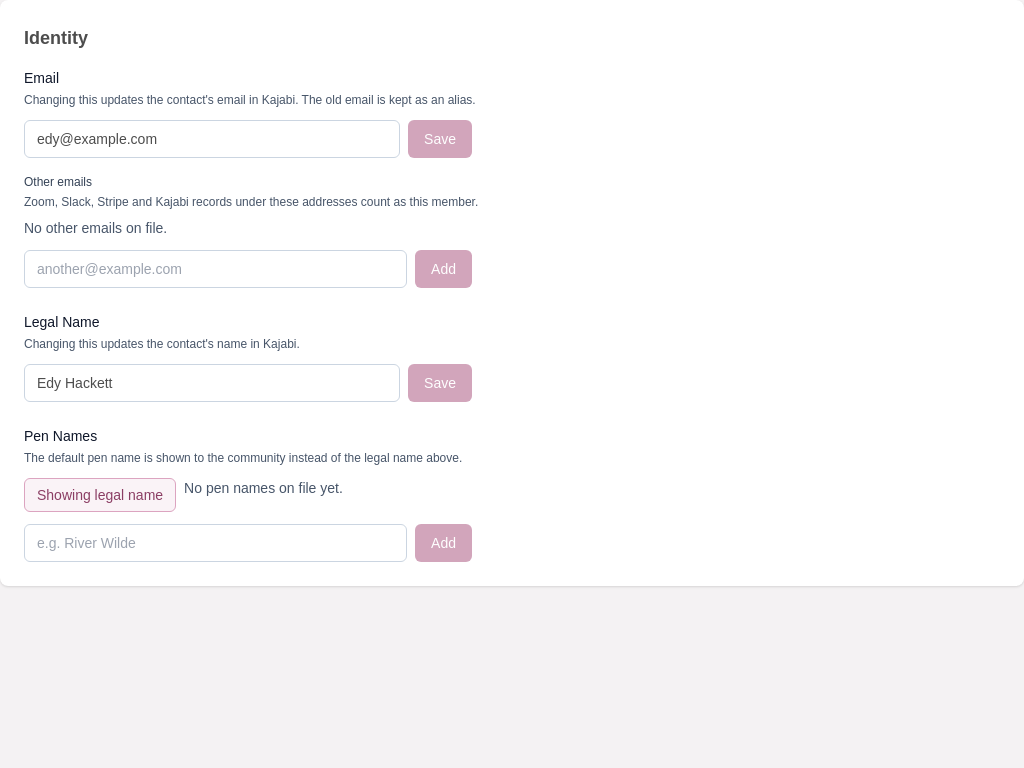
Test: MemberIdentityPanel › shows an error and does not refresh when the Kajabi push fails
The image size is (1024, 768).
Replace the text in the field showing "Edy Hackett" with "Erica Haraldsen". click: (212, 383)
box: x1=24 y1=364 x2=400 y2=402
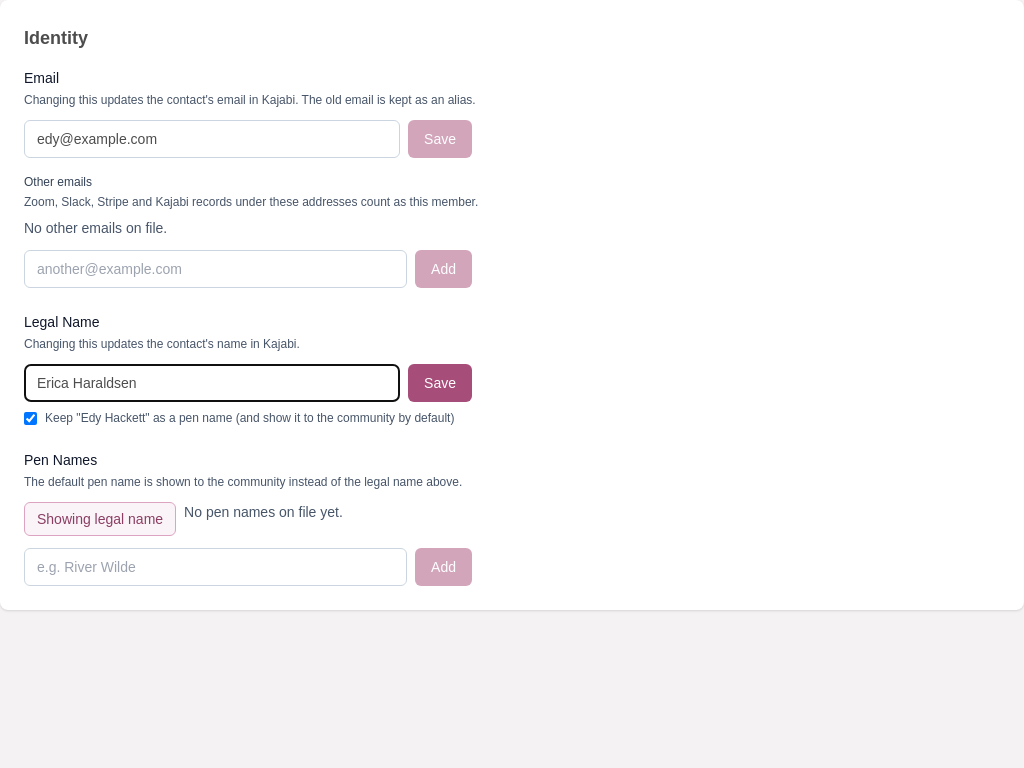
Click the 2nd button "Save". click: (440, 383)
box: x1=408 y1=364 x2=472 y2=402
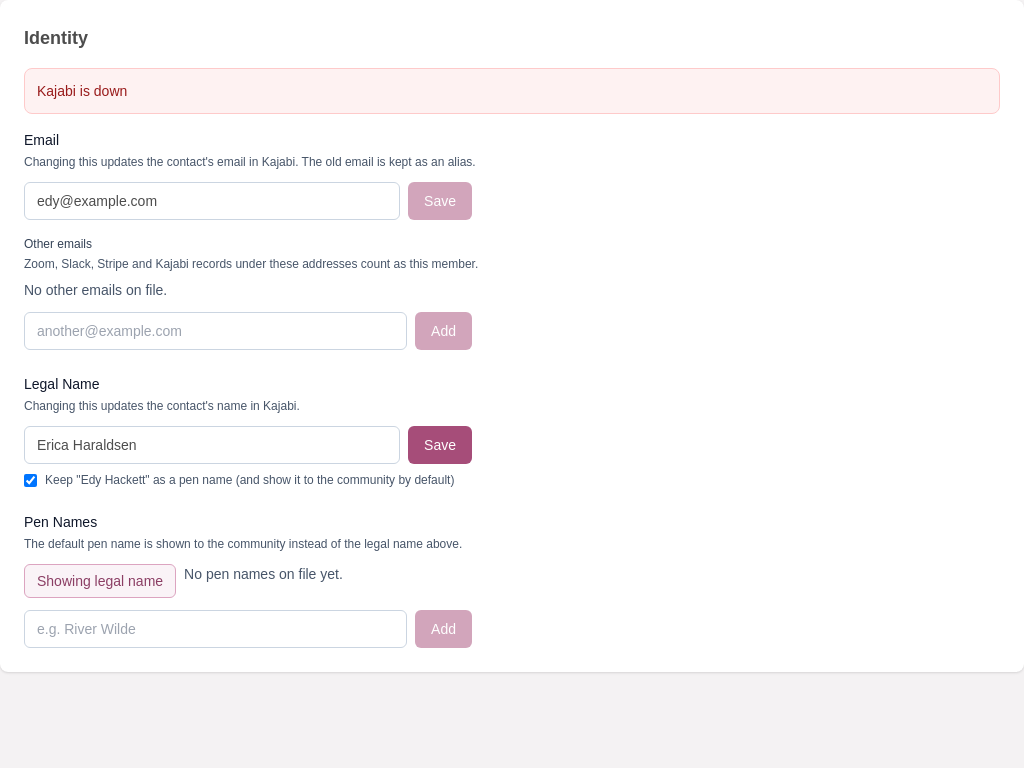
Result: the text "Kajabi is down" is shown at x1=24 y1=68 x2=1000 y2=114
